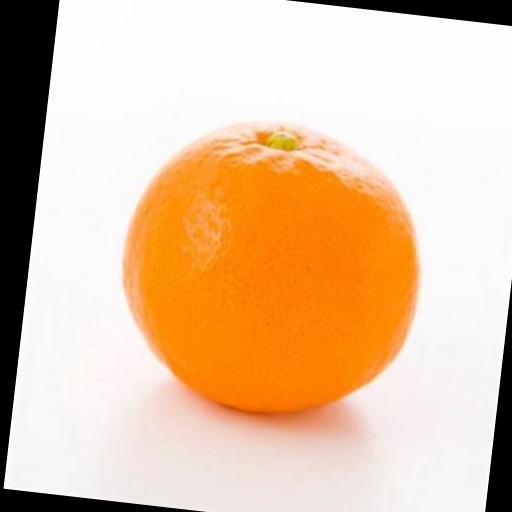fruit: (124, 123, 418, 413)
